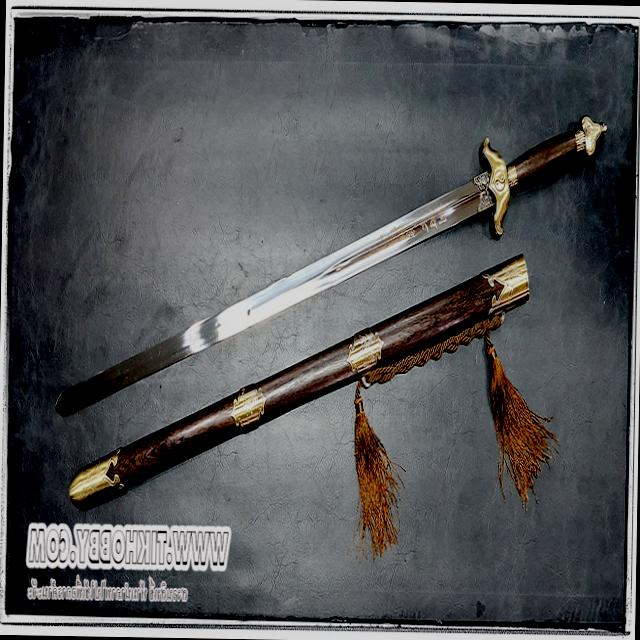long sword: (45, 102, 610, 430), (40, 250, 534, 514)
